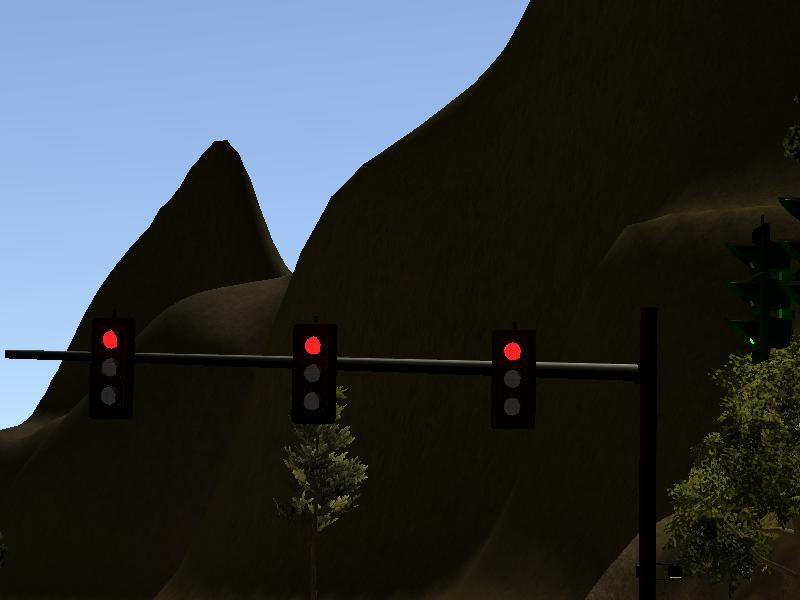RED: (491, 329, 534, 423), (292, 330, 334, 421), (90, 325, 132, 411)
